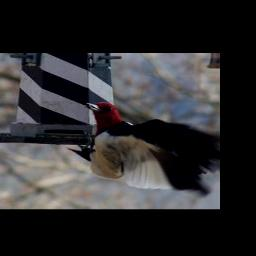Woodpecker: (71, 96, 220, 194)
